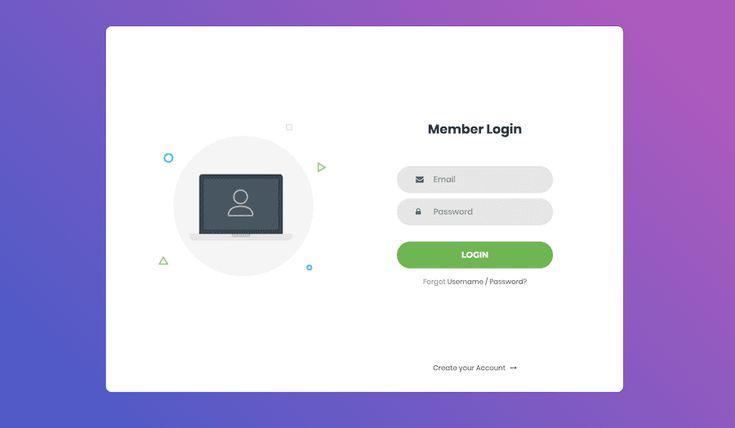button: (398, 241, 555, 269)
input: (400, 166, 555, 193), (399, 200, 554, 226)
label: (429, 123, 524, 138), (424, 278, 533, 289), (433, 365, 508, 373)
